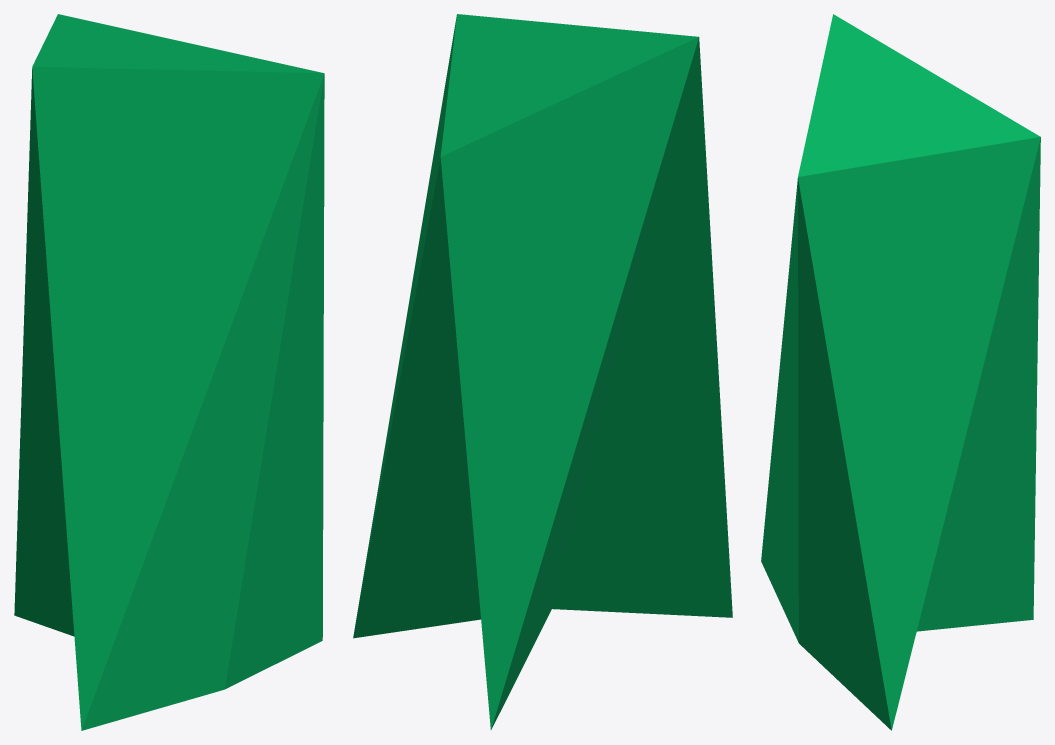
File: SeguaroCactusSmall_LOD3.fbx
3 renders of one model, left to right at view 1: azimuth 30°, elevation 25°; view 2: azimuth 150°, elevation 25°; view 3: azimuth 270°, elevation 25°, orthographic. The views are drawn at different scales.
Parts seen in each view (by area): view 1: SeguaroCactusSmall_LOD3; view 2: SeguaroCactusSmall_LOD3; view 3: SeguaroCactusSmall_LOD3.
Boxes of the visible parts, bbox=[...] form: SeguaroCactusSmall_LOD3: bbox=[14, 14, 324, 730]; SeguaroCactusSmall_LOD3: bbox=[353, 14, 732, 729]; SeguaroCactusSmall_LOD3: bbox=[761, 14, 1040, 730].
Bounding box in the file's own units: 21.61 × 49.51 × 24.82.
